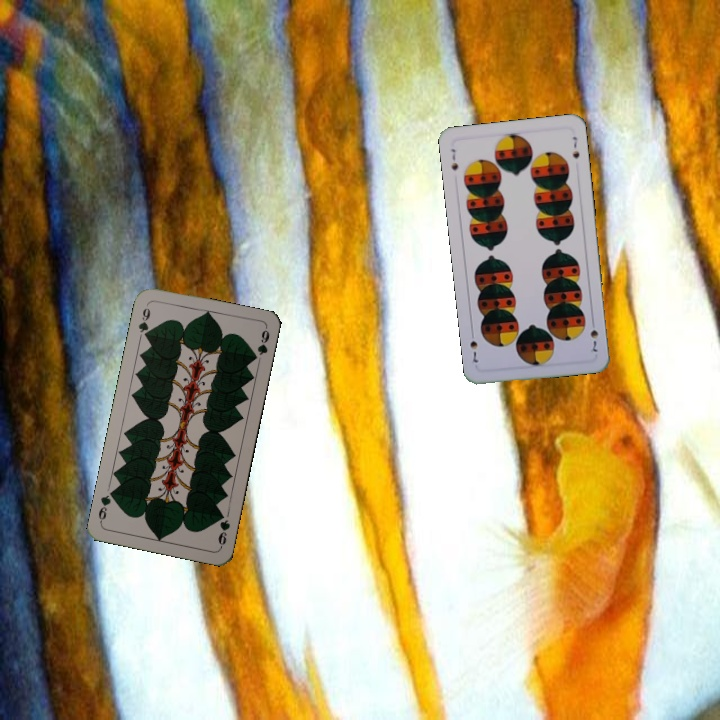G9: (214, 508, 233, 550), (134, 304, 153, 342)
S7: (586, 316, 601, 355), (446, 145, 461, 173)
